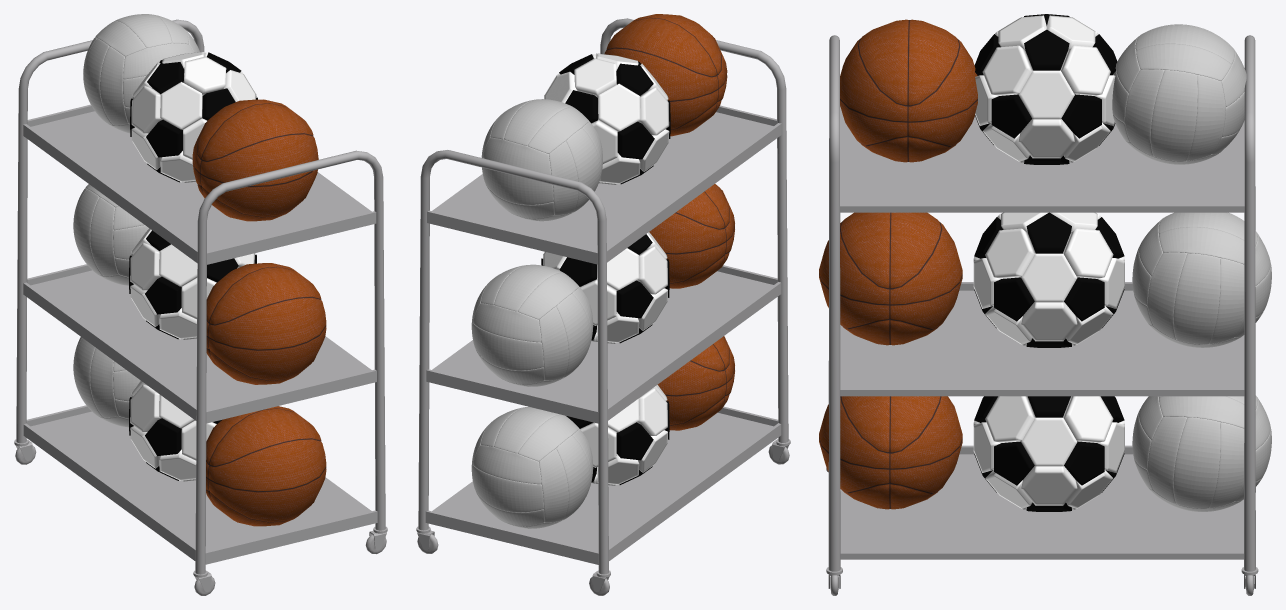
File: Shelf.gltf
3 renders of one model, left to right at view 1: azimuth 30°, elevation 25°; view 2: azimuth 150°, elevation 25°; view 3: azimuth 270°, elevation 25°, orthographic. The views are drawn at different scales.
Visible parts, largest first — view 1: Cylinder, basketball, basketball.001, basketball.002, Solid.003, volleyball.002, Solid.001, Solid.002, volleyball, volleyball.001; view 2: Cylinder, volleyball, volleyball.001, volleyball.002, Solid.003, basketball.002, Solid.001, basketball, Solid.002, basketball.001; view 3: Cylinder, Solid.003, Solid.001, basketball.002, volleyball.002, Solid.002, basketball, volleyball, volleyball.001, basketball.001.
Boxes of the visible parts, x1,y1,x2,y2 form: Cylinder: (14, 19, 387, 595); basketball: (206, 263, 326, 384); basketball.001: (206, 406, 326, 526); basketball.002: (192, 99, 318, 221); Solid.003: (130, 51, 257, 182); volleyball.002: (83, 14, 199, 133); Solid.001: (129, 228, 256, 339); Solid.002: (129, 381, 221, 481); volleyball: (73, 184, 148, 285); volleyball.001: (73, 337, 140, 427); Cylinder: (416, 18, 790, 595); volleyball: (471, 264, 593, 386); volleyball.001: (471, 406, 593, 528); volleyball.002: (481, 99, 602, 221); Solid.003: (544, 53, 670, 184); basketball.002: (604, 14, 727, 136); Solid.001: (541, 232, 669, 343); basketball: (649, 184, 734, 288); Solid.002: (566, 385, 669, 485); basketball.001: (657, 336, 734, 430); Cylinder: (826, 35, 1258, 595); Solid.003: (974, 14, 1117, 164); Solid.001: (973, 212, 1124, 347); basketball.002: (840, 19, 977, 162); volleyball.002: (1112, 24, 1246, 164); Solid.002: (973, 396, 1124, 511); basketball: (819, 212, 962, 345); volleyball: (1132, 212, 1271, 347); volleyball.001: (1132, 395, 1271, 511); basketball.001: (819, 396, 962, 509).
Bounding box in the file's own units: 1.66 × 3.71 × 2.91.
